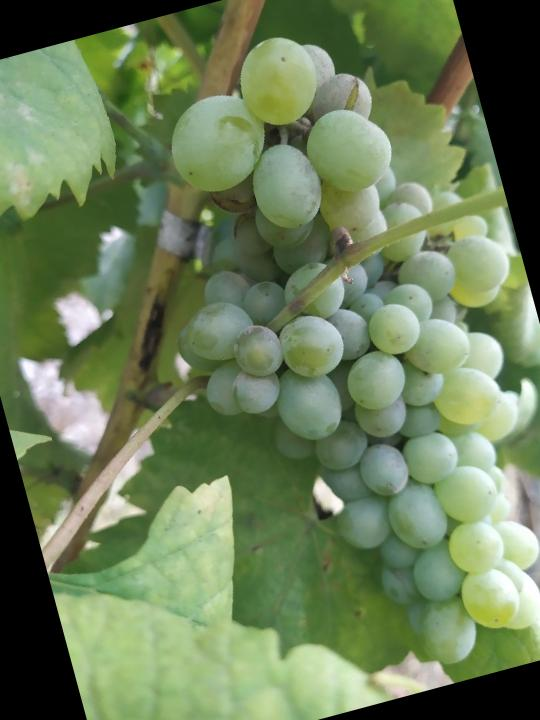grape: (106, 0, 540, 708)
